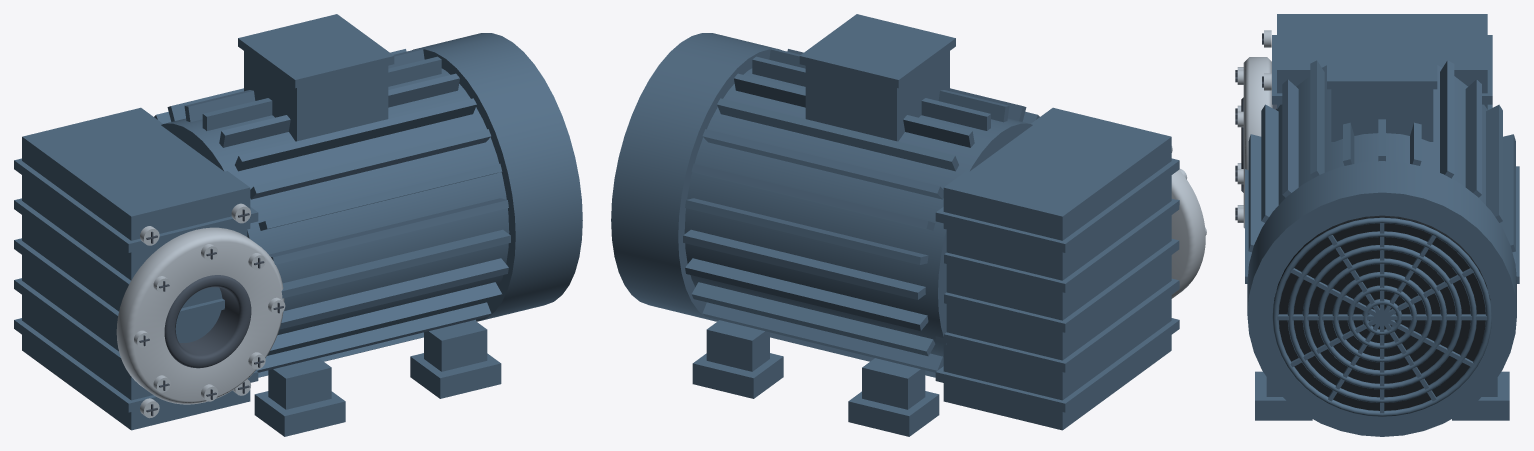
The model's file is gearmotor.glb.
The picture shows the model from 3 angles, left to right: view 1: azimuth 30°, elevation 25°; view 2: azimuth 150°, elevation 25°; view 3: azimuth 270°, elevation 25°; orthographic projection. The views are drawn at different scales.
Parts seen in each view (by area): view 1: longitudinal-cooling-fin (×13), worm-gearbox-housing, motor-body, rear-fan-cover, gearbox-output-flange, gearbox-rib (×5), terminal-box, terminal-box-lid, foot-support (×2), mounting-foot (×2), output-shaft-bore; view 2: worm-gearbox-housing, longitudinal-cooling-fin (×12), motor-body, rear-fan-cover, gearbox-rib (×5), terminal-box, terminal-box-lid, foot-support (×2), mounting-foot (×2), gearbox-output-flange; view 3: rear-fan-cover, fan-grille-recess, longitudinal-cooling-fin (×13), fan-grille-ring (×7), worm-gearbox-housing, motor-body, terminal-box-lid, fan-grille-spoke (×7), terminal-box, mounting-foot (×2), gearbox-output-flange, gearbox-rib.
Part boxes in pixels (x1,y1,x2,y2): longitudinal-cooling-fin (×13): [167, 48, 510, 377]; worm-gearbox-housing: [22, 107, 250, 430]; motor-body: [161, 68, 509, 334]; rear-fan-cover: [412, 33, 582, 321]; gearbox-output-flange: [116, 227, 284, 404]; gearbox-rib (×5): [14, 158, 258, 412]; terminal-box: [244, 51, 388, 141]; terminal-box-lid: [238, 14, 394, 88]; foot-support (×2): [268, 320, 487, 409]; mounting-foot (×2): [254, 353, 501, 436]; output-shaft-bore: [164, 275, 251, 368]; worm-gearbox-housing: [943, 107, 1171, 430]; longitudinal-cooling-fin (×12): [683, 48, 1009, 377]; motor-body: [684, 68, 1032, 356]; rear-fan-cover: [611, 33, 781, 321]; gearbox-rib (×5): [935, 158, 1179, 412]; terminal-box: [805, 51, 949, 141]; terminal-box-lid: [799, 14, 955, 88]; foot-support (×2): [706, 320, 925, 409]; mounting-foot (×2): [692, 353, 939, 436]; gearbox-output-flange: [1171, 170, 1205, 298]; rear-fan-cover: [1247, 161, 1516, 436]; fan-grille-recess: [1274, 215, 1490, 410]; longitudinal-cooling-fin (×13): [1245, 60, 1519, 283]; fan-grille-ring (×7): [1272, 217, 1491, 416]; worm-gearbox-housing: [1277, 14, 1487, 109]; motor-body: [1276, 65, 1488, 204]; terminal-box-lid: [1327, 34, 1437, 89]; fan-grille-spoke (×7): [1277, 223, 1487, 413]; terminal-box: [1331, 89, 1433, 141]; mounting-foot (×2): [1255, 371, 1509, 420]; gearbox-output-flange: [1243, 57, 1272, 228]; gearbox-rib: [1272, 35, 1492, 104].
Size of the model in its own units: 1.52 by 0.9955 by 0.836.
